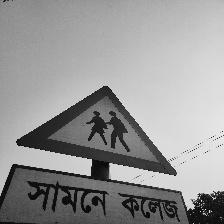College-in-front: (0, 74, 223, 224)
